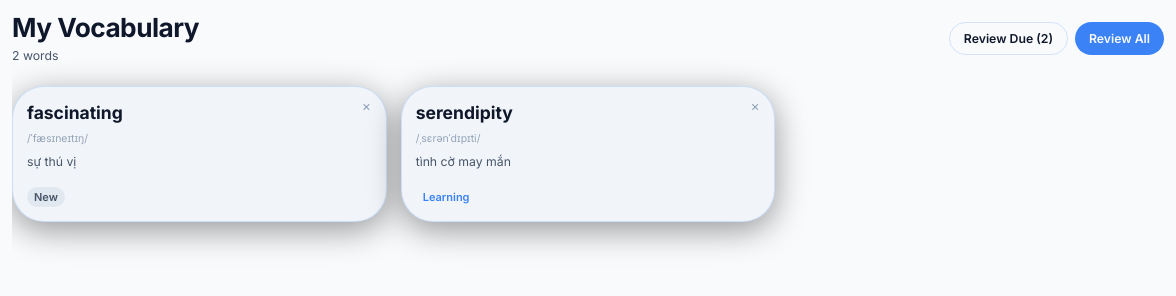
Scenario: VocabularyScreen › enter review mode "Review All": first card word shown, translation hidden
This screenshot has width=1176, height=296.
Expected: the text "fascinating" is shown, [27,102,123,122]
Click the button "Review All": coordinates (1120, 38) [1075,22,1164,55]
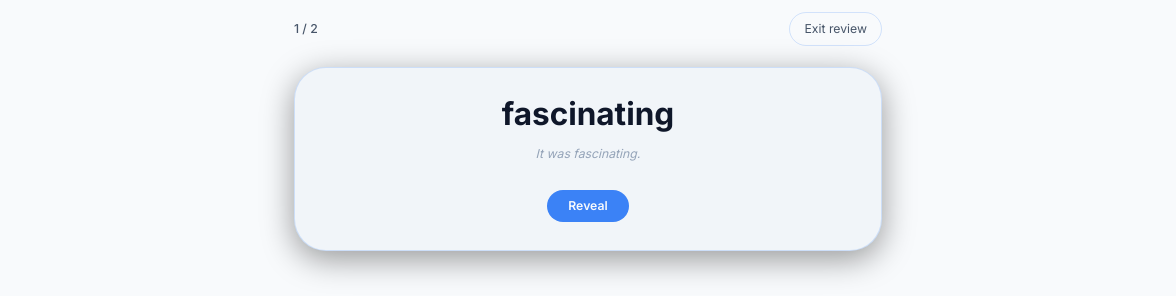
Expected: the element with test id "review-card" is shown, [294,66,882,250]
Expected: the text with test id "review-progress" reads "1 / 2", [294,20,318,38]
